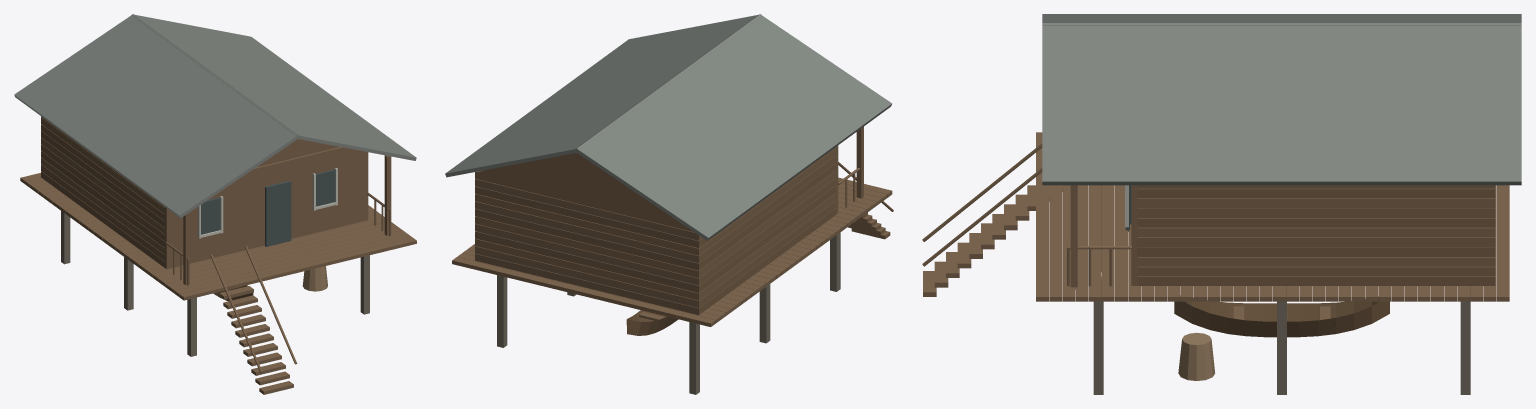
Rendered from thai_stilt_c.glb.
The picture shows the model from 3 angles, left to right: view 1: azimuth 30°, elevation 25°; view 2: azimuth 150°, elevation 25°; view 3: azimuth 270°, elevation 25°; orthographic projection. The views are drawn at different scales.
Visible parts, largest first — view 1: thai_stilt_c; view 2: thai_stilt_c; view 3: thai_stilt_c.
Part boxes in pixels (x1,y1,x2,y2): thai_stilt_c: [14, 14, 416, 394]; thai_stilt_c: [445, 14, 893, 394]; thai_stilt_c: [922, 14, 1521, 394].
Bounding box in the file's own units: 7.54 × 6.47 × 11.38.
